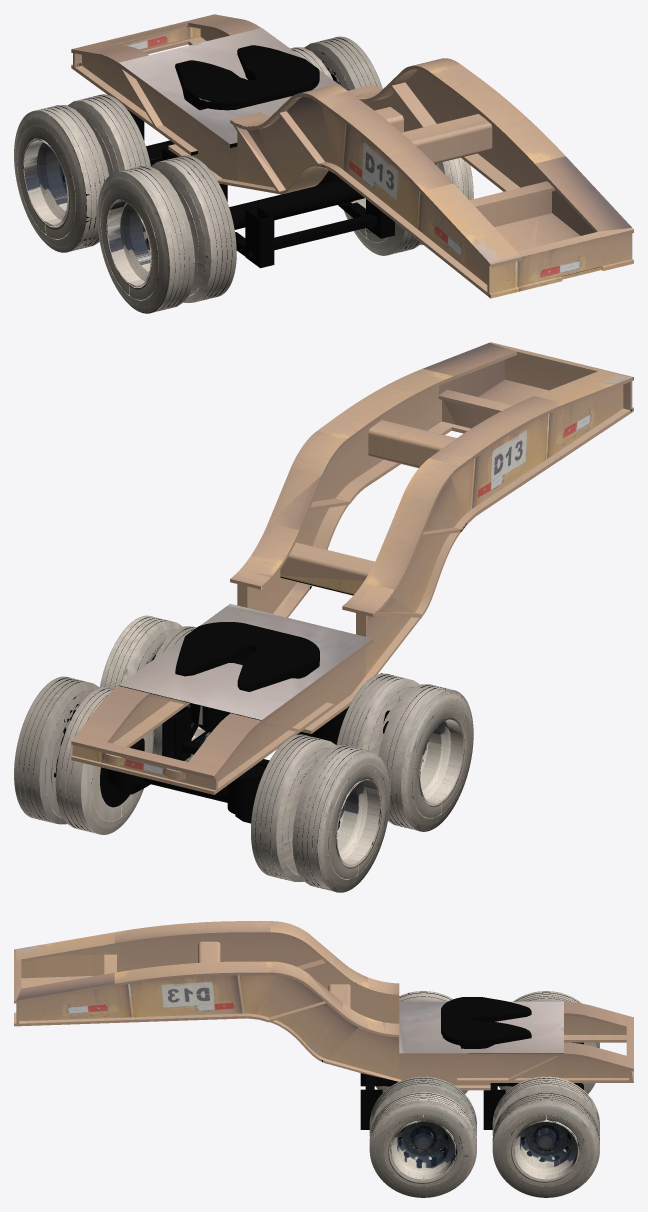
The model's file is coil_semi_trailer_2.obj.
3 views of the same model, one above another, from view 1: azimuth 30°, elevation 25°; view 2: azimuth 150°, elevation 25°; view 3: azimuth 270°, elevation 25° (orthographic). The views are drawn at different scales.
Visible parts, largest first — view 1: Trailer_2_steel_coil; view 2: Trailer_2_steel_coil; view 3: Trailer_2_steel_coil.
Boxes of the visible parts, x1,y1,x2,y2 form: Trailer_2_steel_coil: (14,14,633,313); Trailer_2_steel_coil: (14,342,633,892); Trailer_2_steel_coil: (14,921,633,1197).
Bounding box in the file's own units: 2.5 × 2.03 × 5.82.
